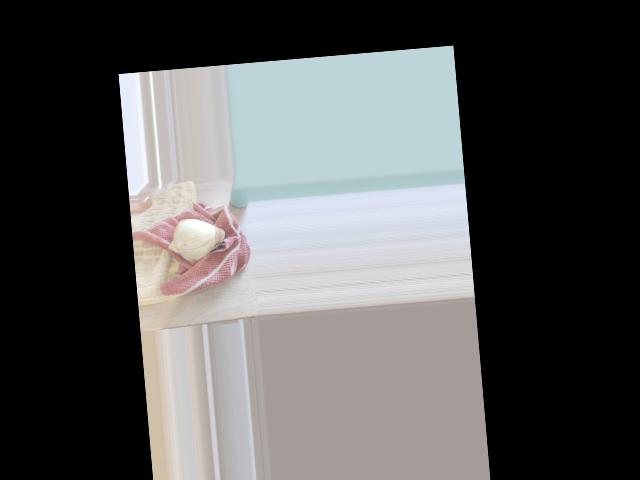onion: (170, 213, 223, 264)
